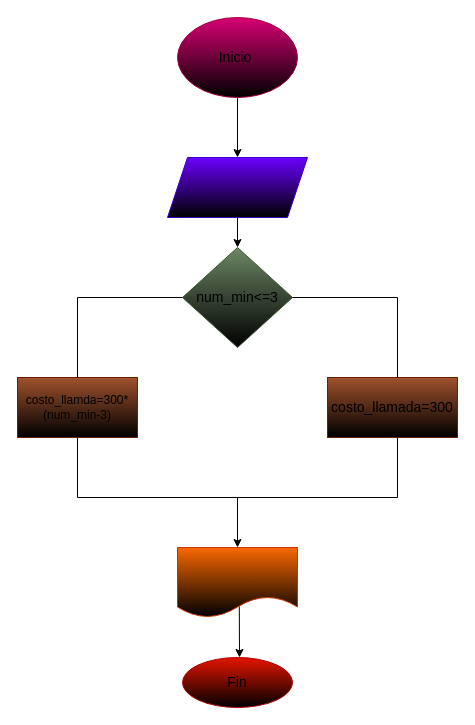
This 475x725 diagram has some shape labels left out. The centre of each missing label's shape, as x and y in pixels:
costo_llamada: point (237, 582)
num_min: point (237, 187)
